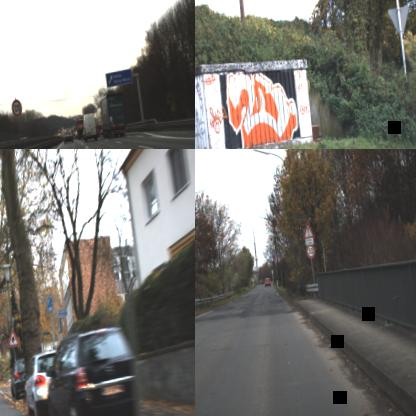DANGER: (301, 220, 316, 240)
priority at next intersection: (6, 327, 20, 347)
speed limit 120: (10, 99, 23, 118)
speed limit 30: (306, 243, 315, 259)
